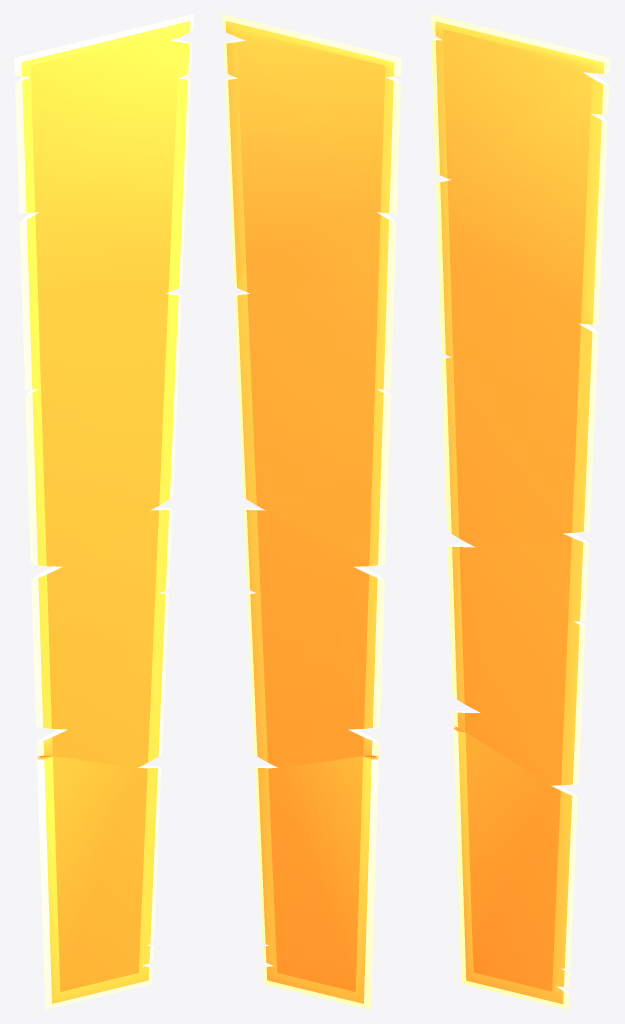
File: gold_blade_scratched_059.glb
3 views of the same model, side by side, from view 1: azimuth 30°, elevation 25°; view 2: azimuth 150°, elevation 25°; view 3: azimuth 330°, elevation 25° (orthographic).
Visible parts, largest first — view 1: gold_blade_scratched.059; view 2: gold_blade_scratched.059; view 3: gold_blade_scratched.059.
Boxes of the visible parts, <box> form: gold_blade_scratched.059: <box>14,14,193,1009</box>; gold_blade_scratched.059: <box>222,14,401,1009</box>; gold_blade_scratched.059: <box>430,14,610,1009</box>.
Size of the model in its own units: 2.19 by 11.21 by 0.0882.
Materials: 1 (1 with a texture image).
